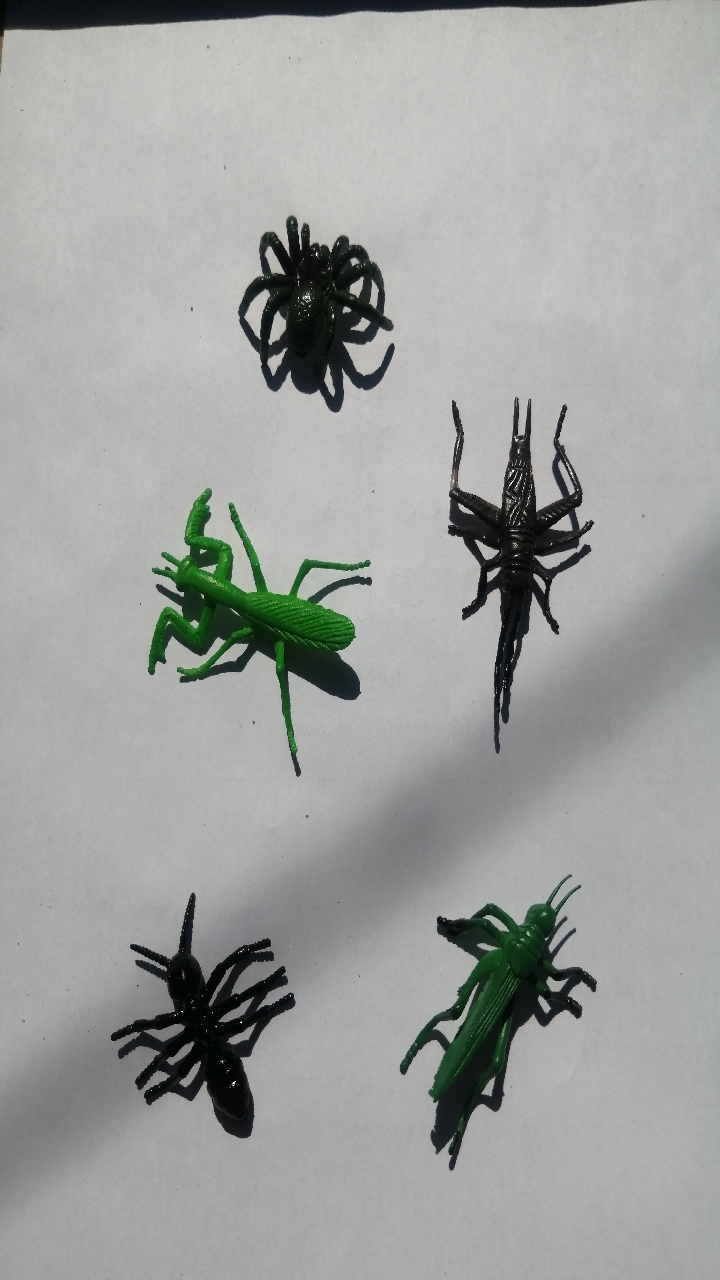intruso: (108, 440, 358, 774), (74, 879, 318, 1197), (411, 352, 600, 743), (386, 842, 606, 1172), (220, 171, 411, 426)
